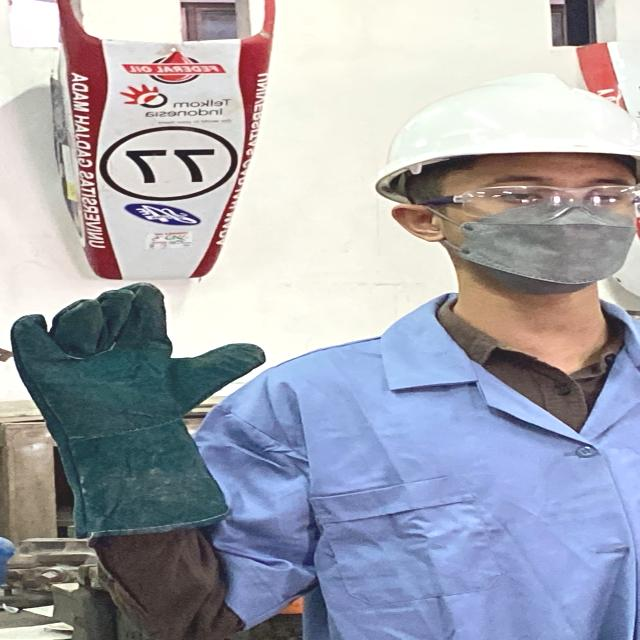face_mask: (435, 180, 640, 287)
glasses: (411, 179, 640, 222)
hand_glove: (0, 269, 273, 441)
head_helmet: (378, 74, 640, 182)
person: (0, 75, 640, 640)
